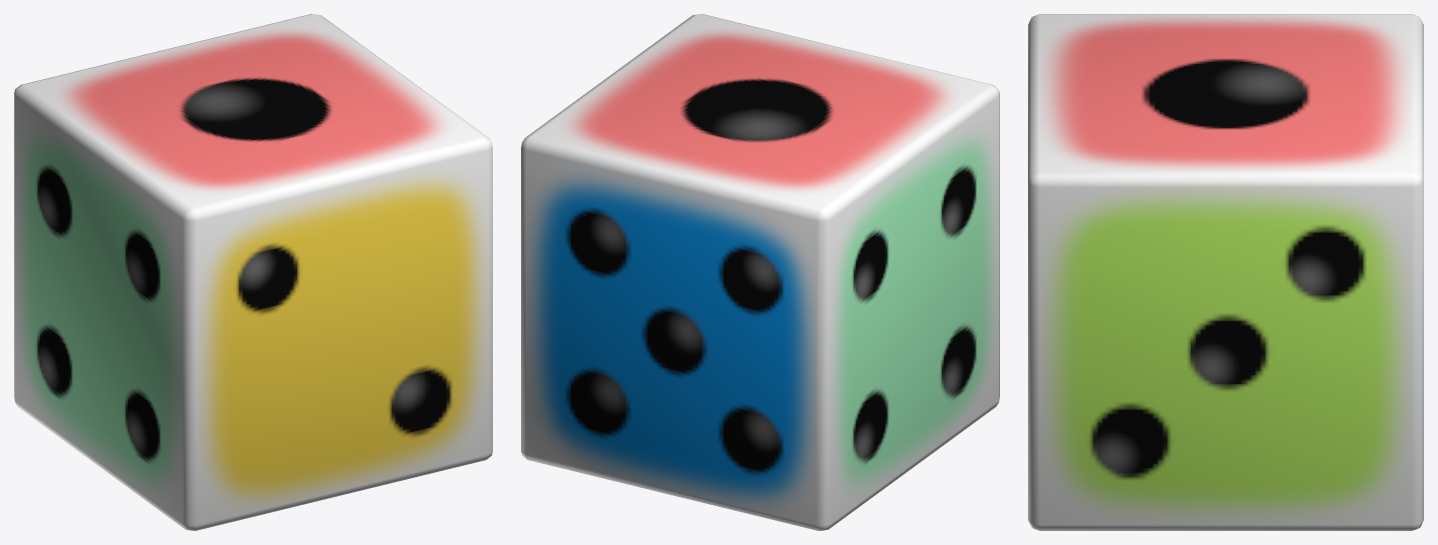
Rendered from dice_20131112_1.fbx.
3 views of the same model, side by side, from view 1: azimuth 30°, elevation 25°; view 2: azimuth 150°, elevation 25°; view 3: azimuth 270°, elevation 25° (orthographic). The views are drawn at different scales.
Parts seen in each view (by area): view 1: dice; view 2: dice; view 3: dice.
Boxes of the visible parts, box(x1,y1,x2,y2) form: dice: box(14, 14, 492, 530); dice: box(521, 14, 999, 530); dice: box(1028, 14, 1423, 530).
Size of the model in its own units: 100 by 100 by 100.
Materials: 1 (1 with a texture image).
